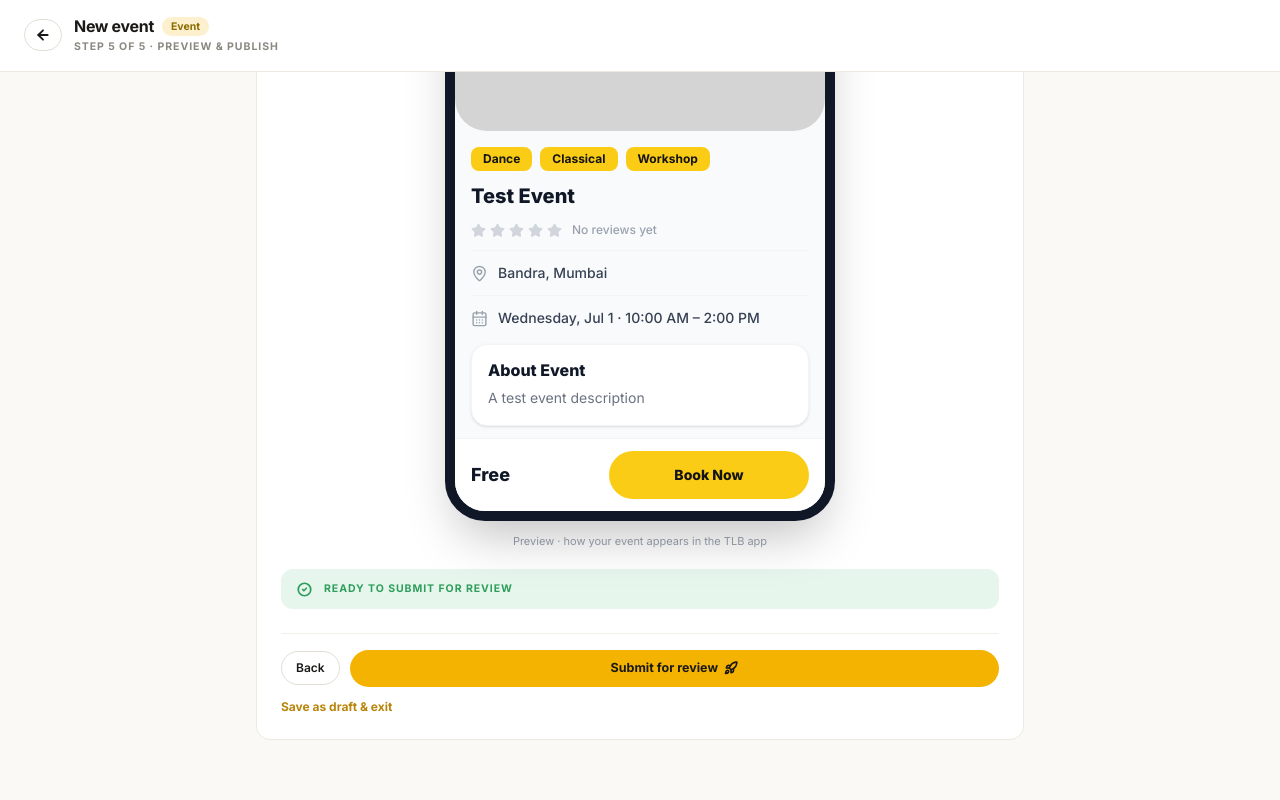
Test: CreateEventPreview — submit modals › shows Event Under Review modal on successful submit
This screenshot has width=1280, height=800.
(page scrolled)
Click the button "Submit for review". click: (674, 668)
box: [350,650,999,687]
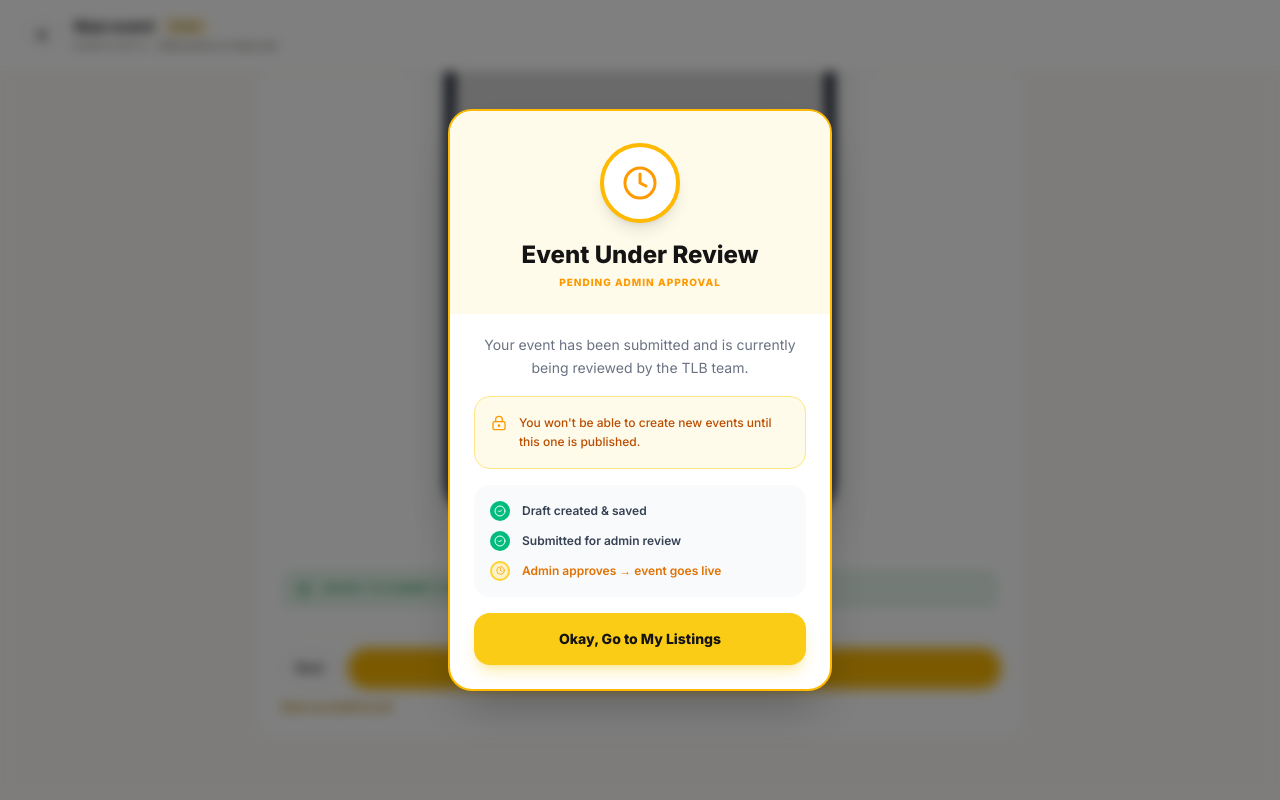
Result: the heading "Event Under Review" is shown at [522,239,758,271]
Result: the text "Pending Admin Approval" is shown at [559,276,721,288]
Result: the text "won't be able to create new events" is shown at [519,415,771,449]
